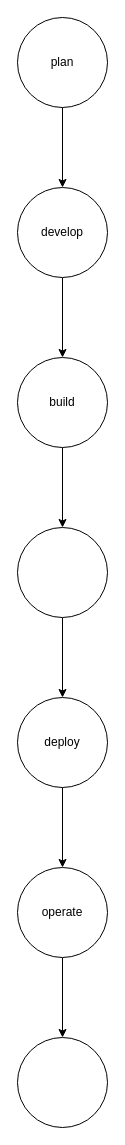
The diagram is 125 pixels wide and 1145 high, and some of its shapes have lost their labels. The centre of each missing label's shape, as x and y in pixels:
monitor: point (62, 1082)
release: point (62, 572)
